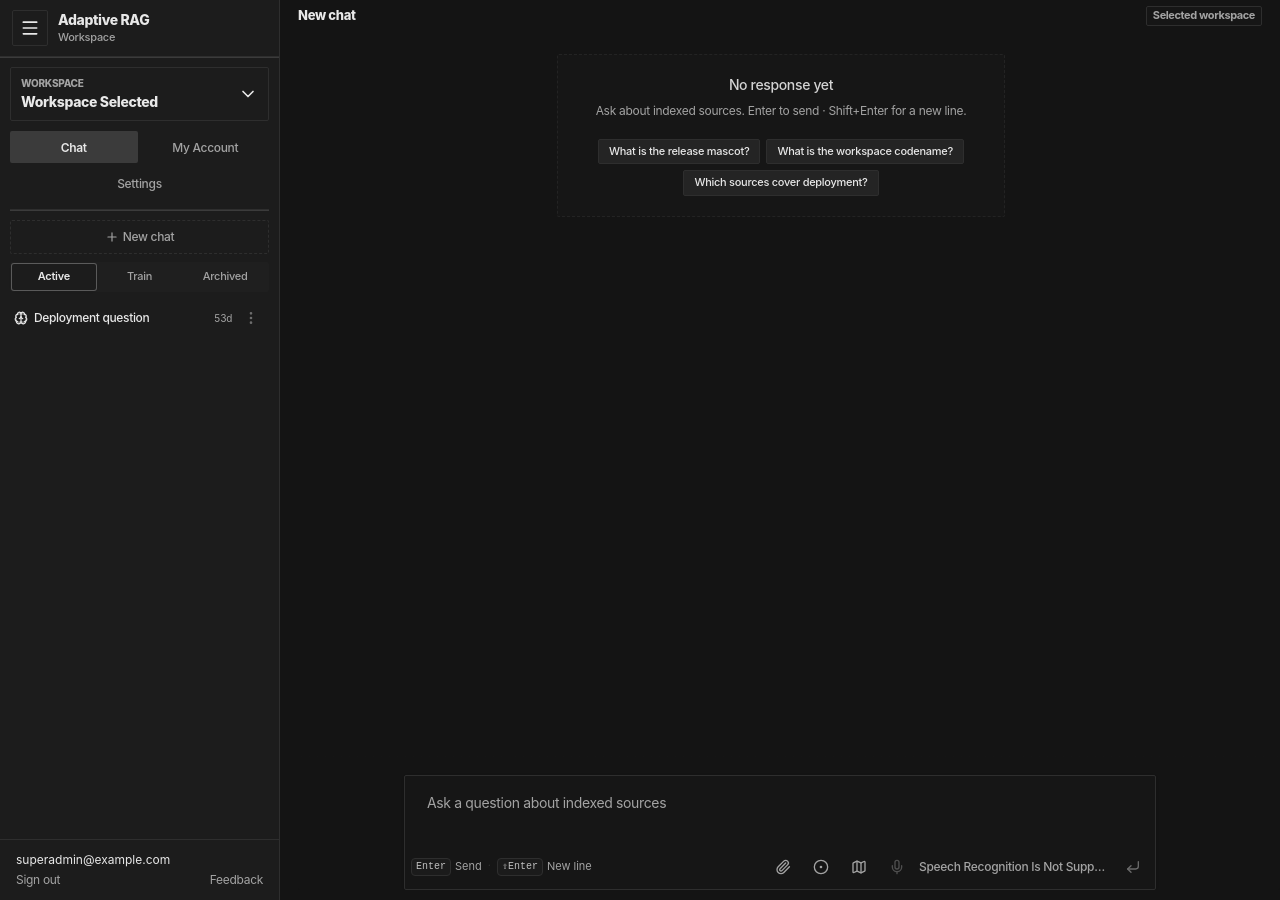
Test: App chat workspace › renders a chat knowledge draft card and approves edited text
Type "Capture this as knowledge." into the text box labelled "question". click: {"x": 780, "y": 814}
box: x1=411 y1=782 x2=1149 y2=847
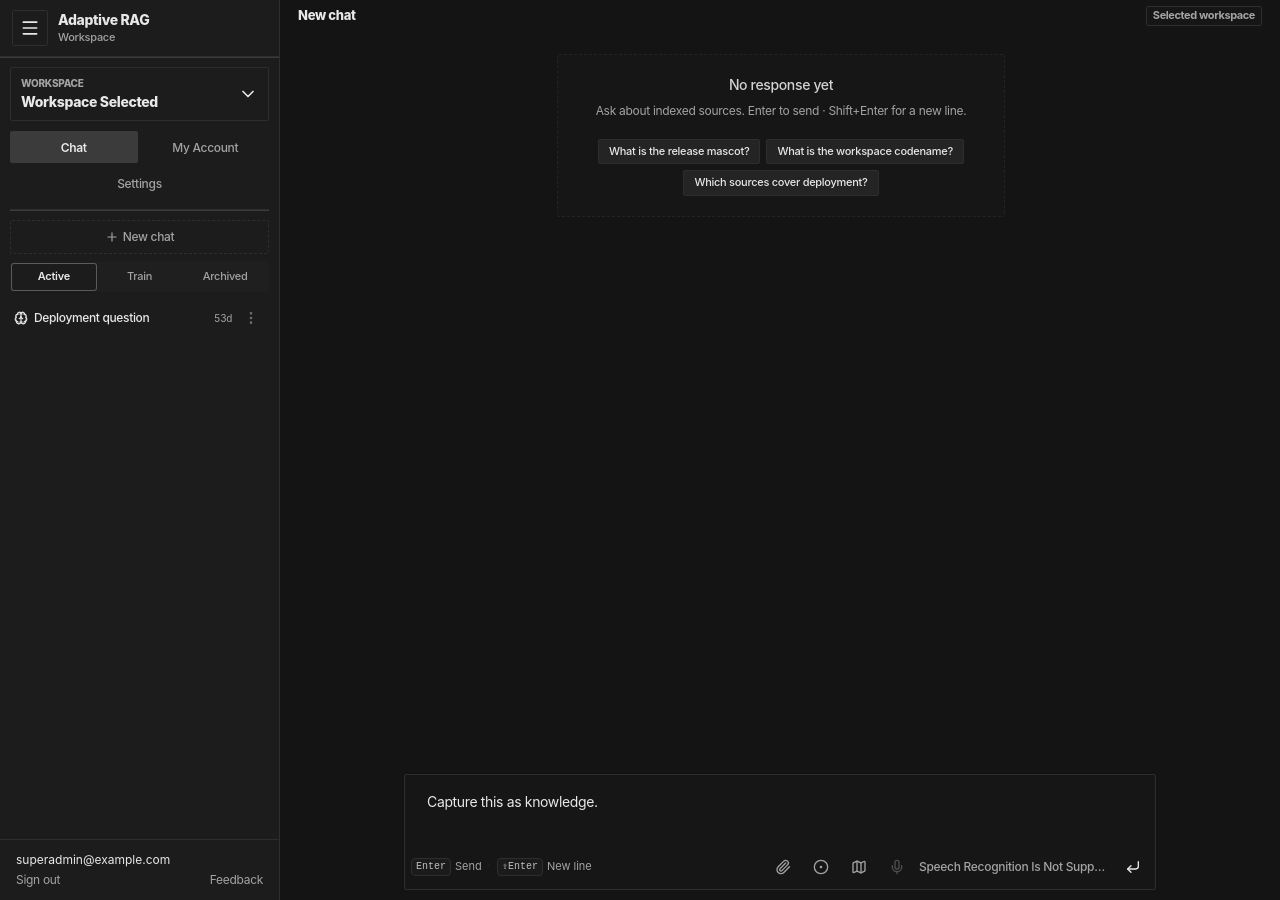
Click the button named "Ask". click: {"x": 1133, "y": 867}
box: x1=1117 y1=851 x2=1149 y2=883
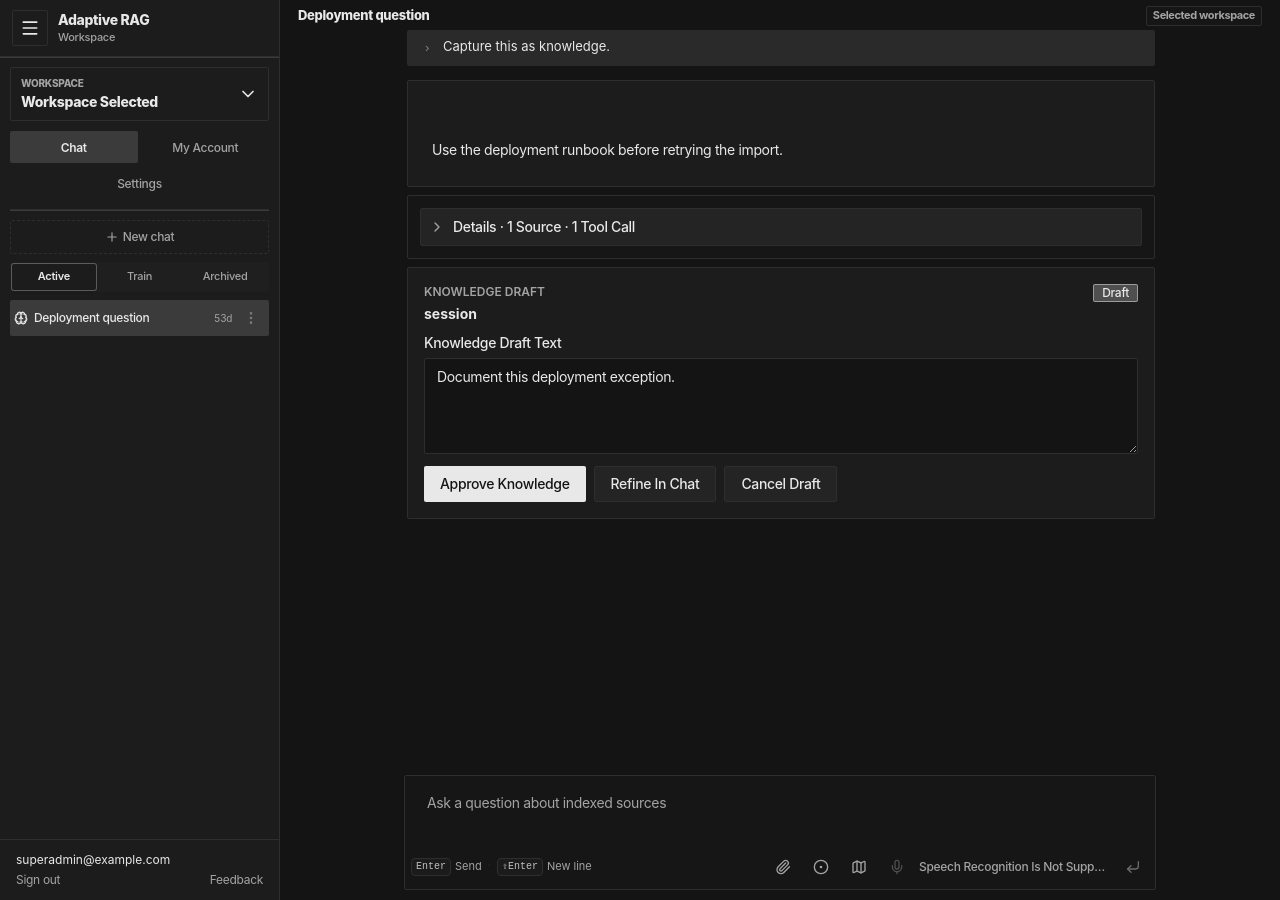
Now the element named "Knowledge Draft draft-33333333" is shown, box x1=407 y1=267 x2=1155 y2=519
Replace the text in the text box labelled "Knowledge Draft Text" with "Document this deployment exception for import retries.". click: {"x": 781, "y": 406}
box: x1=424 y1=358 x2=1138 y2=454
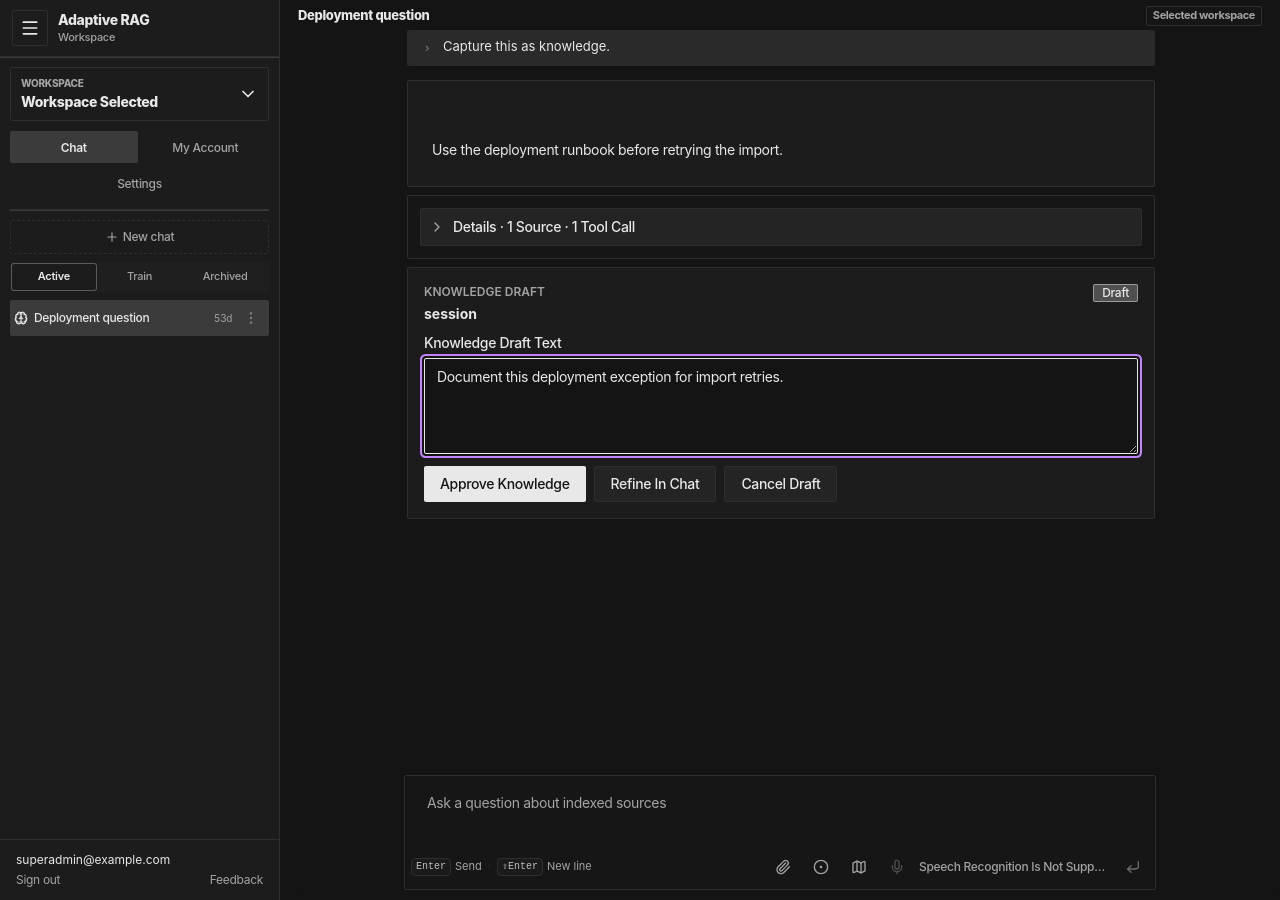
Click the button "Approve Knowledge". click: {"x": 505, "y": 484}
box: x1=424 y1=466 x2=586 y2=502
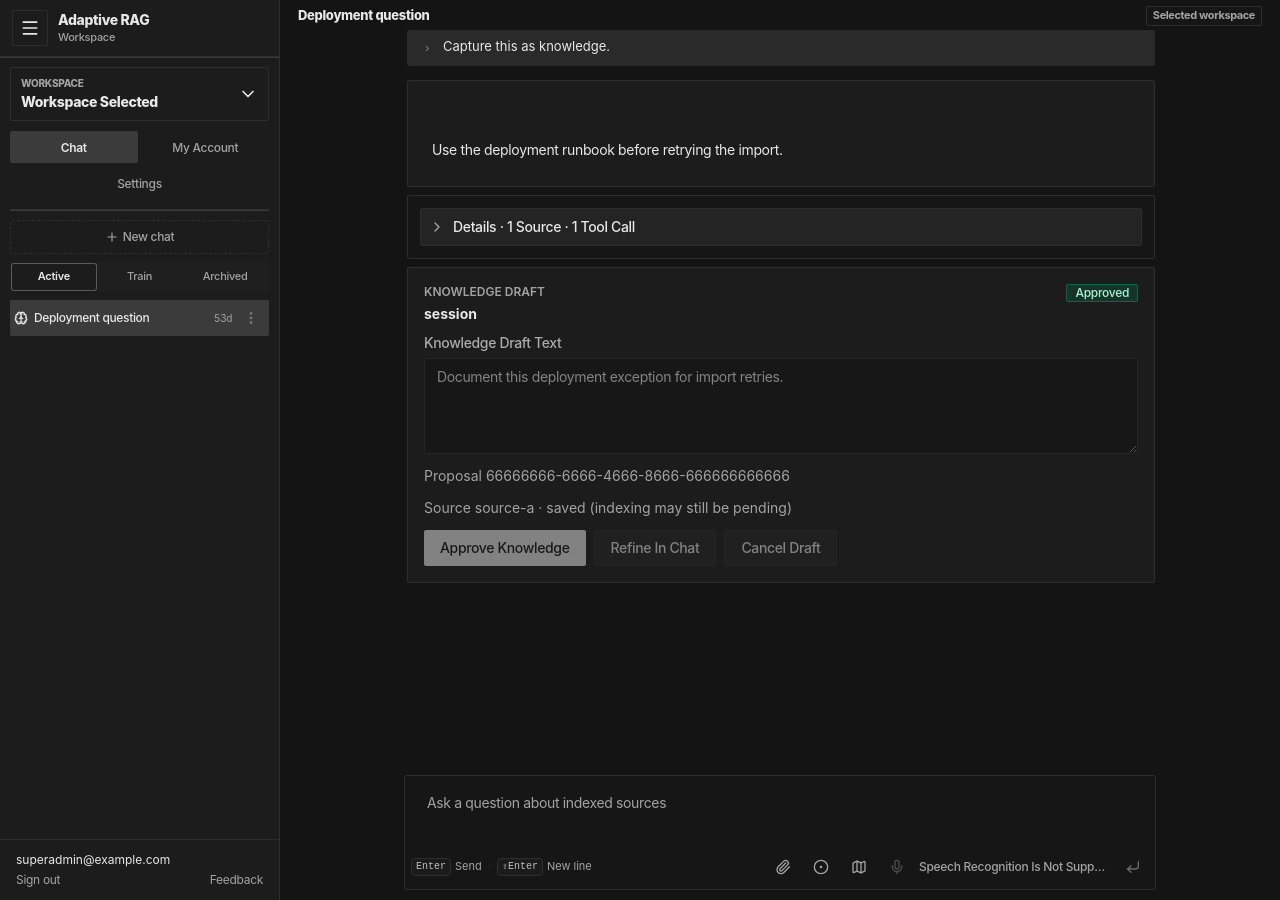
Now the text "Approved" is shown, box x1=1066 y1=284 x2=1138 y2=302
